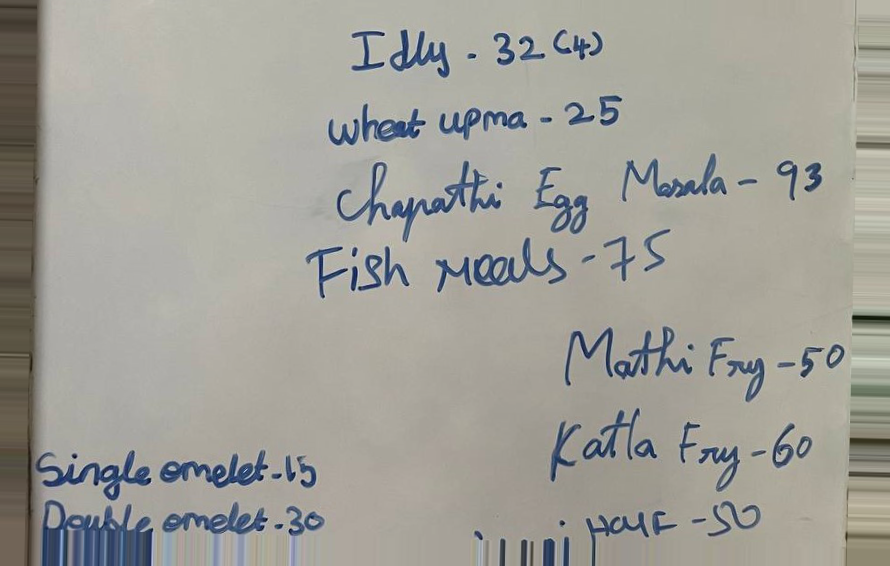chapathi egg masala - 93: (332, 156, 827, 222)
double omelet - 30: (41, 494, 333, 548)
fish Meals - 75: (303, 226, 690, 298)
idly(4) - 32: (343, 19, 618, 80)
katla fry - 60: (547, 404, 819, 490)
mathi fry - 50: (557, 317, 849, 400)
single omelet - 15: (32, 445, 328, 499)
wheat upma - 25: (319, 90, 635, 145)
